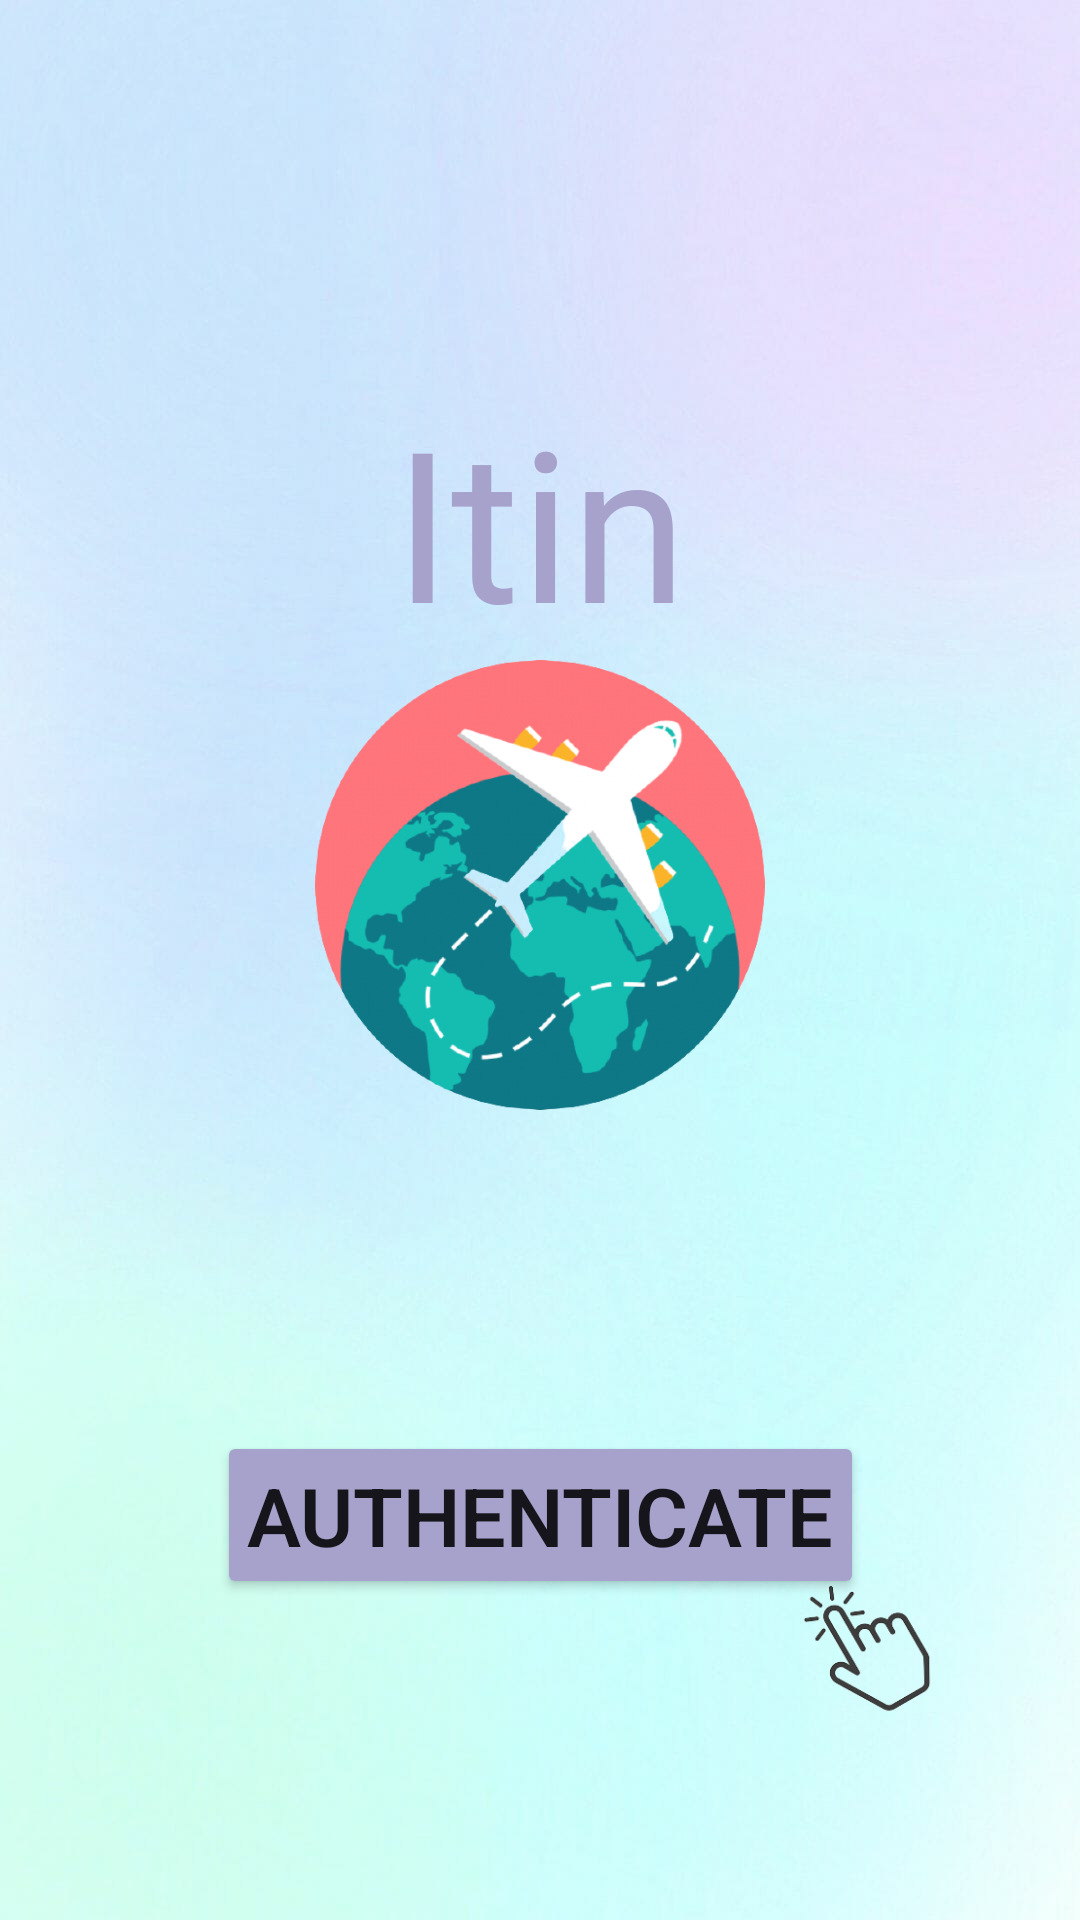

Where to tap for icons on this 1080w x 1920h app screen, as (x=x, y=y):
click: (x=846, y=1625)
